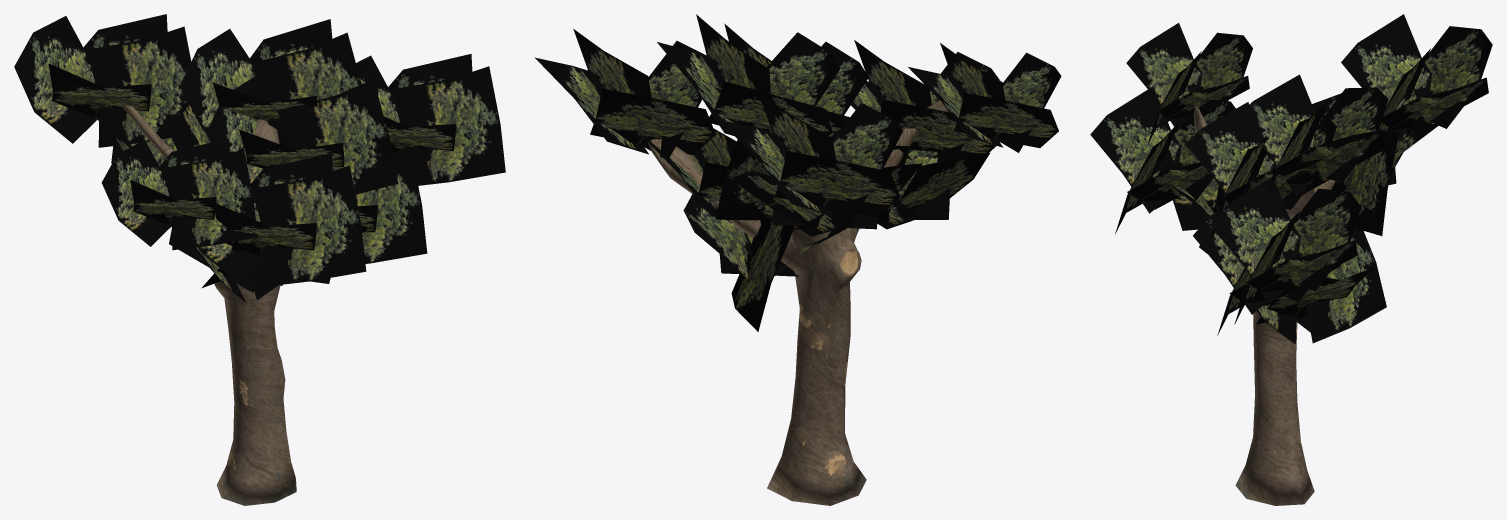
Rendered from tree01_lod01.obj.
The picture shows the model from 3 angles, left to right: view 1: azimuth 30°, elevation 25°; view 2: azimuth 150°, elevation 25°; view 3: azimuth 270°, elevation 25°; orthographic projection. The views are drawn at different scales.
Visible parts, largest first — view 1: game leafs1, chunk1 game; view 2: game leafs1, chunk1 game; view 3: game leafs1, chunk1 game.
Part boxes in pixels (box(x1,y1,x2,y2)): game leafs1: box(14, 14, 505, 303); chunk1 game: box(123, 105, 296, 505); game leafs1: box(535, 14, 1061, 331); chunk1 game: box(648, 100, 949, 505); game leafs1: box(1090, 14, 1492, 344); chunk1 game: box(1194, 98, 1405, 505).
Bounding box in the file's own units: 10.8 × 10.29 × 9.01.
2 materials, 2 textured.
